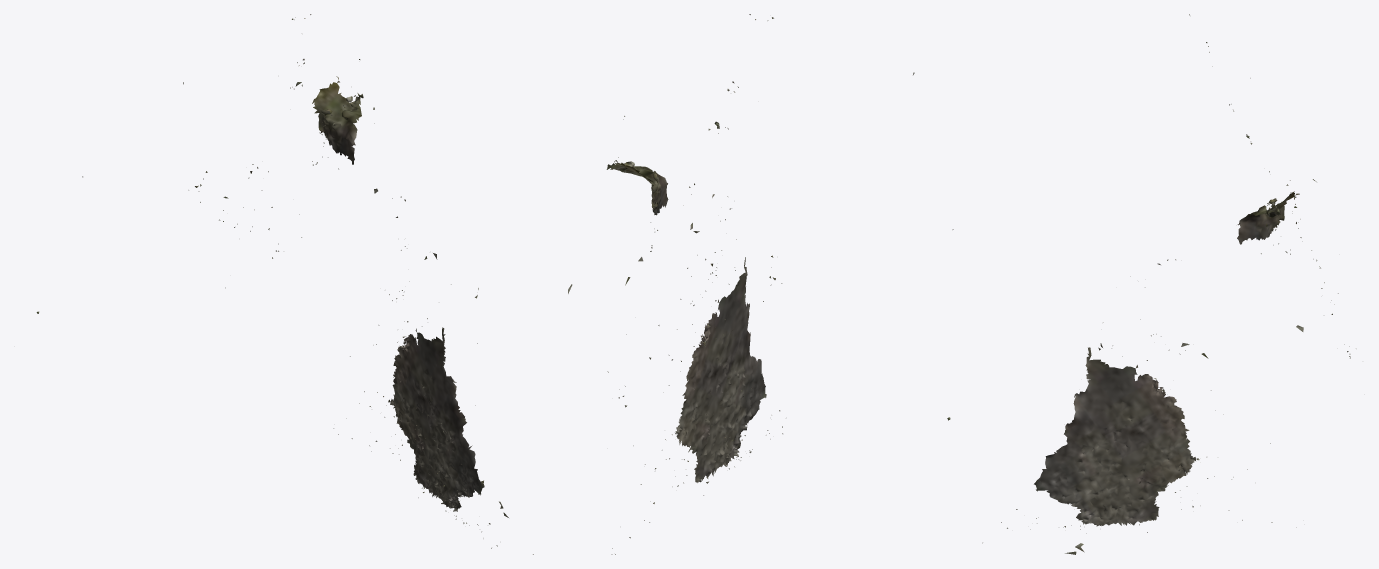
3 renders of one model, left to right at view 1: azimuth 30°, elevation 25°; view 2: azimuth 150°, elevation 25°; view 3: azimuth 270°, elevation 25°, orthographic. The views are drawn at different scales.
Size of the model in its own units: 5.64 by 7.41 by 5.71.
1 material, 1 textured.
